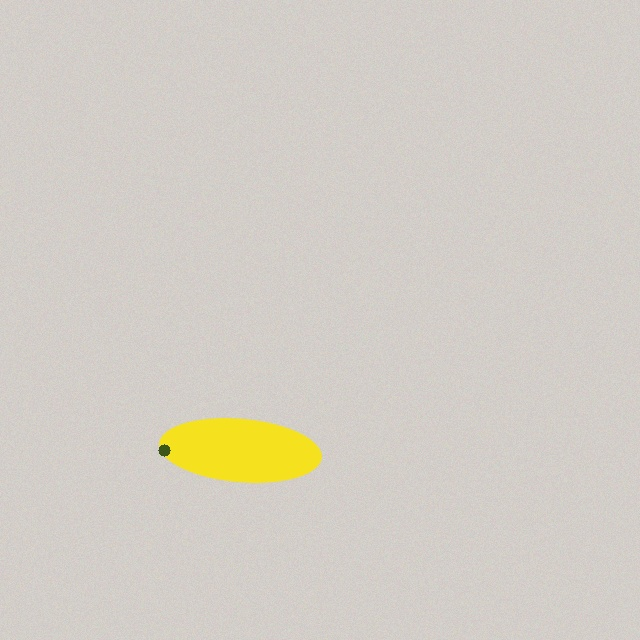Fresh banana: (155, 412, 325, 488)
